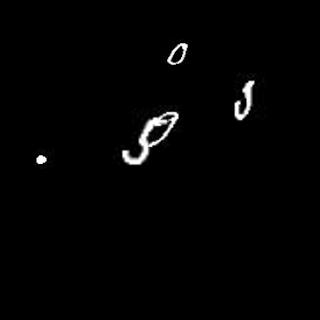dot: (30, 151, 48, 170)
zero: (165, 38, 188, 67)
